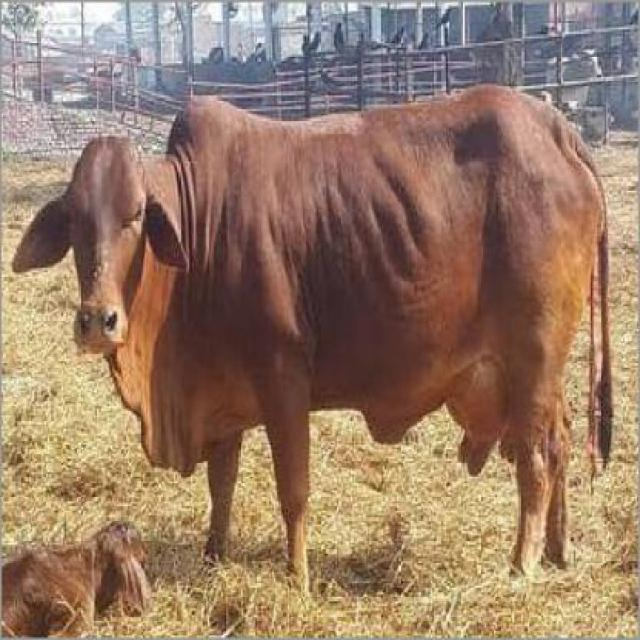Cow: (16, 94, 618, 577)
